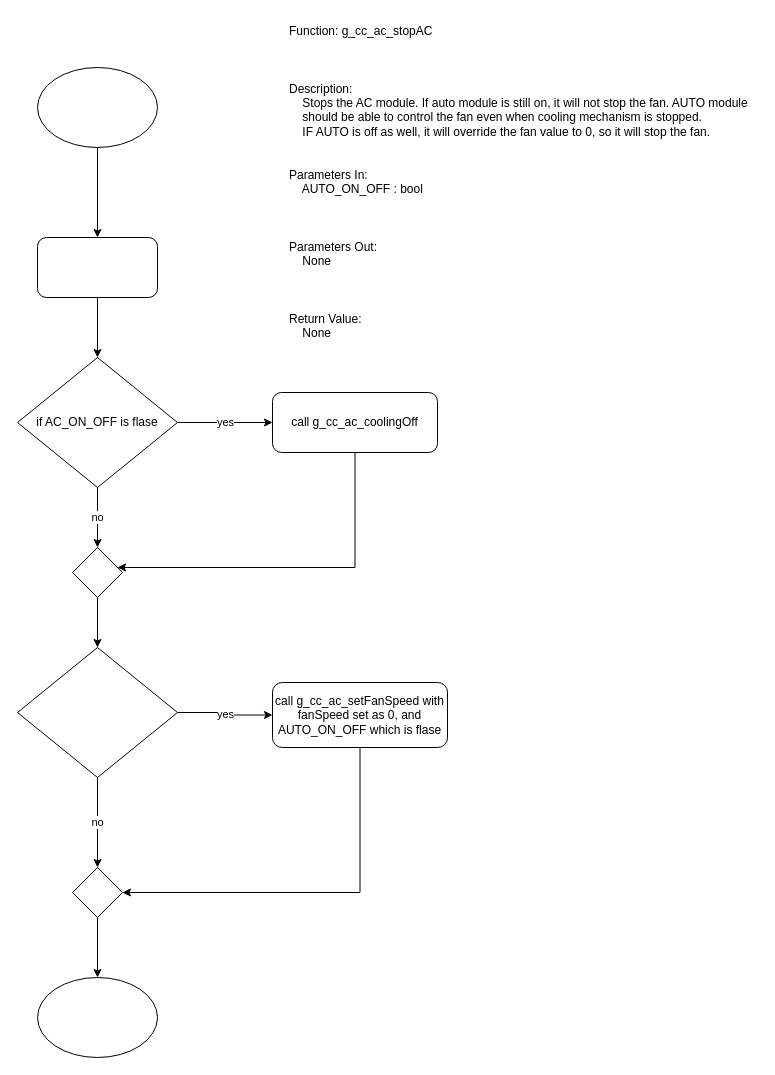
Image size: 775x1075. Some labels were removed from this diagram. The box of each missing label's shape, as (x1, y1, x2, y2) in pixels:
call g_cc_ac_stopAC: (36, 236, 158, 298)
if AC_ON_OFF is false and AUTO_ON_OFF is flase: (16, 646, 178, 778)
